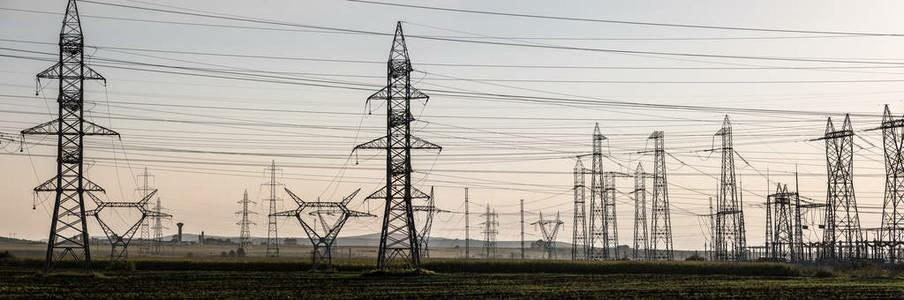power_tower: (19, 3, 122, 272), (353, 16, 449, 277), (810, 114, 867, 265), (274, 185, 371, 267), (703, 111, 750, 261), (873, 101, 904, 270), (645, 130, 679, 261), (583, 121, 613, 263), (763, 180, 807, 262), (259, 154, 287, 259), (134, 167, 160, 258), (234, 187, 263, 245), (533, 209, 564, 255)
